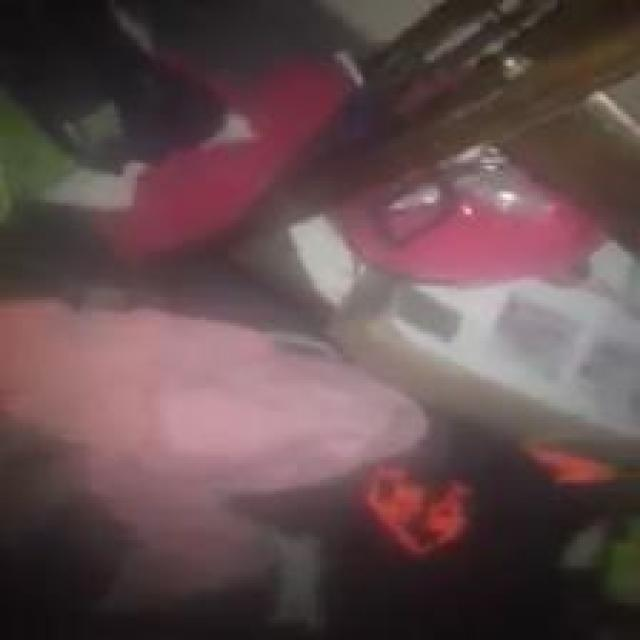other: (356, 464, 466, 560), (505, 423, 607, 486)
